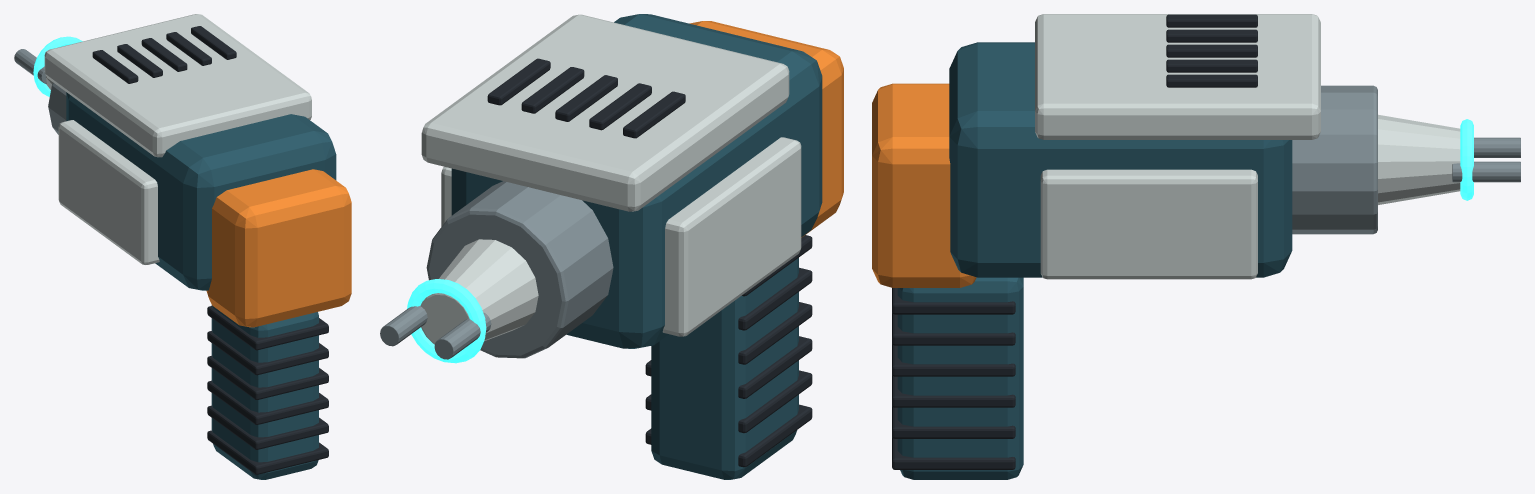
File: arc_welder.glb
The picture shows the model from 3 angles, left to right: view 1: azimuth 30°, elevation 25°; view 2: azimuth 150°, elevation 25°; view 3: azimuth 270°, elevation 25°; orthographic projection. The views are drawn at different scales.
Parts seen in each view (by area): view 1: arc_welder_mesh, arc_collet_mesh; view 2: arc_welder_mesh, arc_collet_mesh; view 3: arc_welder_mesh, arc_collet_mesh.
Part boxes in pixels (x1,y1,x2,y2): arc_welder_mesh: [44, 14, 351, 479]; arc_collet_mesh: [14, 36, 82, 96]; arc_welder_mesh: [421, 14, 843, 479]; arc_collet_mesh: [380, 239, 538, 363]; arc_welder_mesh: [872, 14, 1377, 479]; arc_collet_mesh: [1378, 114, 1520, 204].
Size of the model in its own units: 0.226 by 0.404 by 0.5675.
